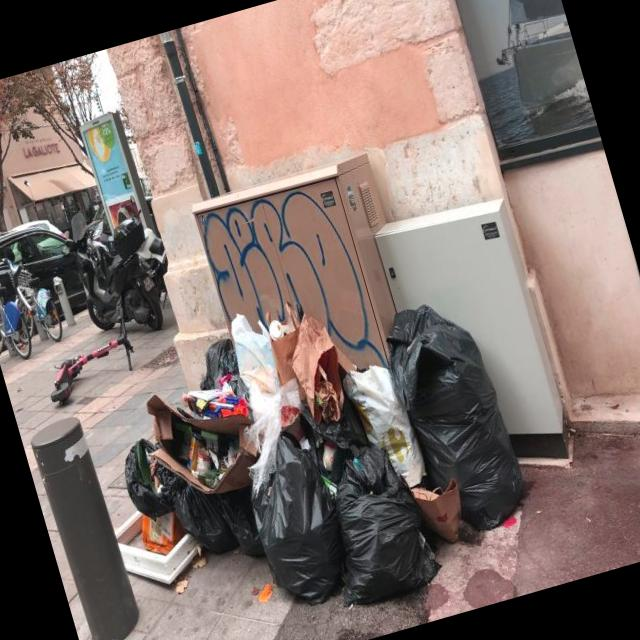high trash: (124, 305, 522, 605)
